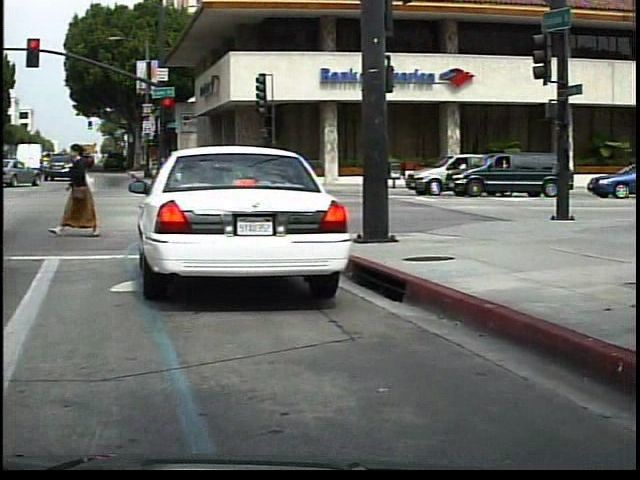person: (61, 138, 112, 242)
